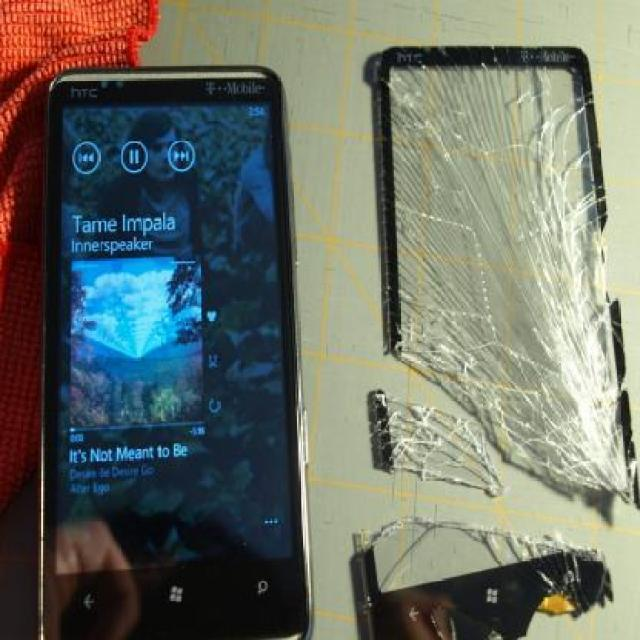phone: (29, 46, 293, 640)
